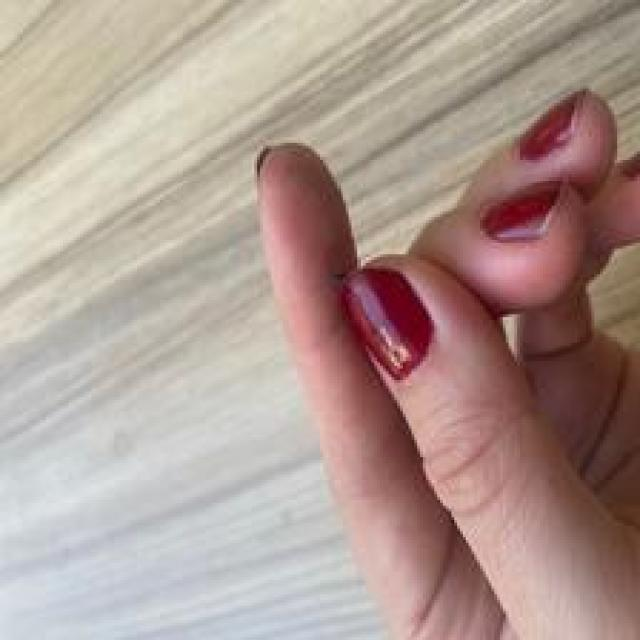Aedes albopictus: (337, 266, 434, 383)
